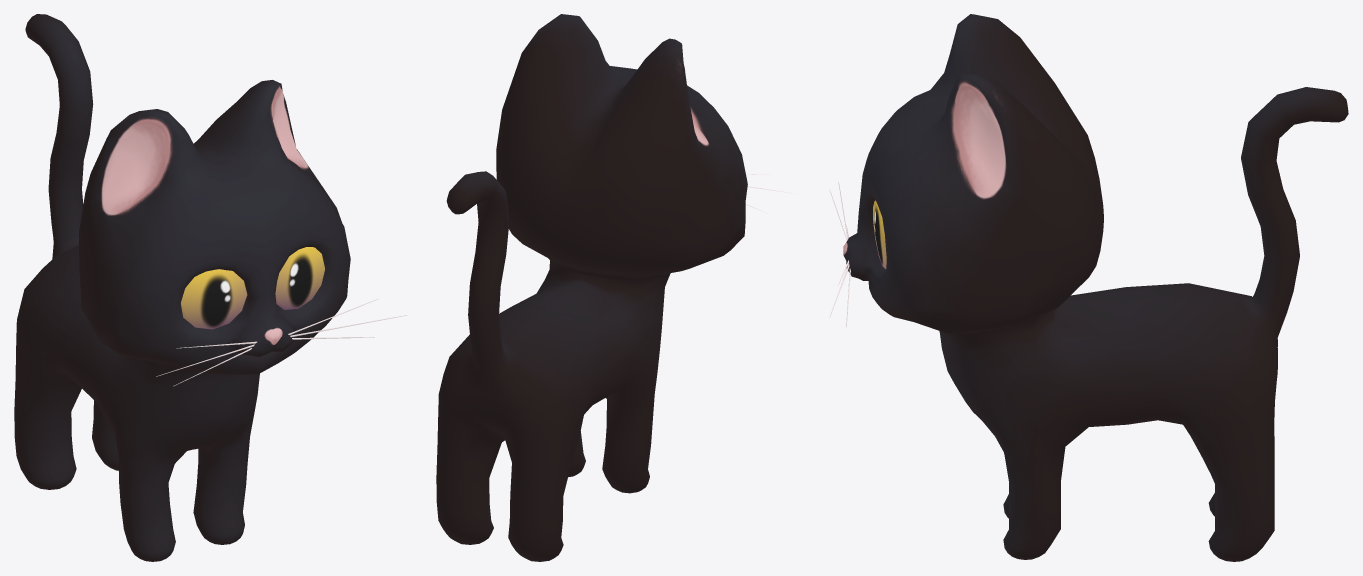
Rendered from cat.glb.
The picture shows the model from 3 angles, left to right: view 1: azimuth 30°, elevation 25°; view 2: azimuth 150°, elevation 25°; view 3: azimuth 270°, elevation 25°; orthographic projection. The views are drawn at different scales.
Visible parts, largest first — view 1: Object_2; view 2: Object_2; view 3: Object_2.
Boxes of the visible parts, x1=… form: Object_2: x1=14, y1=14, x2=407, y2=561; Object_2: x1=436, y1=14, x2=795, y2=561; Object_2: x1=829, y1=14, x2=1348, y2=561.
Bounding box in the file's own units: 289 × 514 × 493.
Materials: 1 (1 with a texture image).
